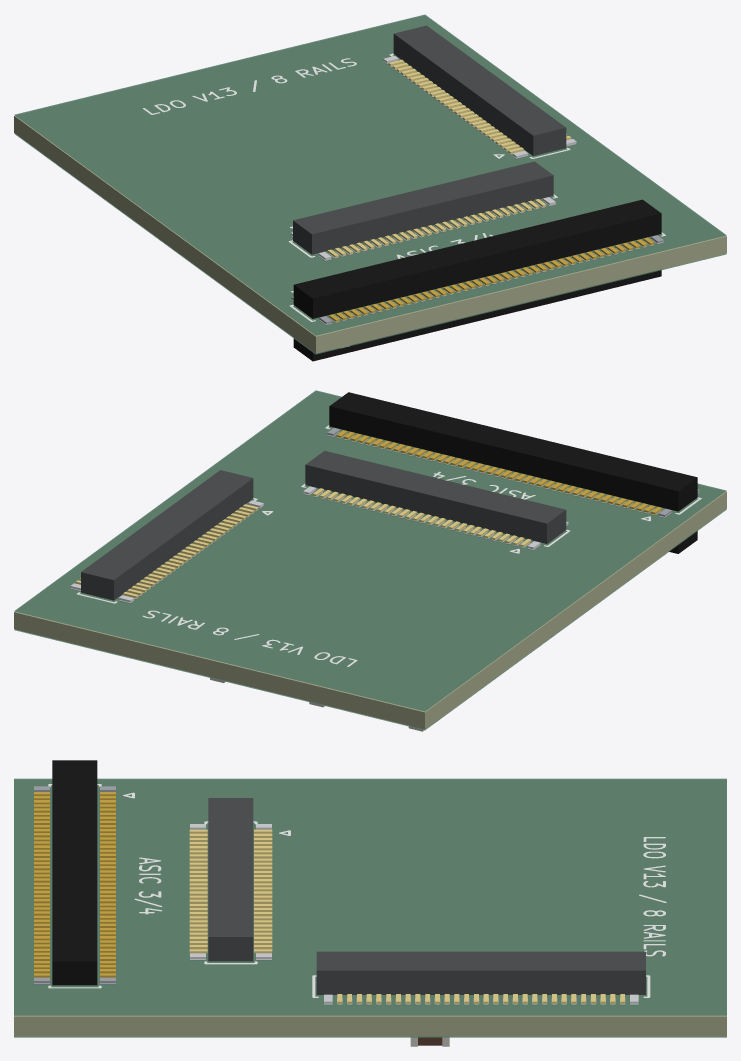
The model's file is ldo-v13-detailed.glb.
3 views of the same model, one above another, from view 1: azimuth 30°, elevation 25°; view 2: azimuth 150°, elevation 25°; view 3: azimuth 270°, elevation 25° (orthographic). The views are drawn at different scales.
Visible parts, largest first — view 1: ASIC_LDO_Dual_60_Direct_V13_PCB, ASIC_LDO_Dual_60_Direct_V13_soldermask (×2), J301, J2, J1, J101, ASIC_LDO_Dual_60_Direct_V13_pad, ASIC_LDO_Dual_60_Direct_V13_silkscreen; view 2: ASIC_LDO_Dual_60_Direct_V13_PCB, ASIC_LDO_Dual_60_Direct_V13_soldermask (×2), J301, J2, J1, ASIC_LDO_Dual_60_Direct_V13_pad, ASIC_LDO_Dual_60_Direct_V13_silkscreen; view 3: ASIC_LDO_Dual_60_Direct_V13_PCB, ASIC_LDO_Dual_60_Direct_V13_soldermask (×2), J301, J1, J2, ASIC_LDO_Dual_60_Direct_V13_silkscreen, ASIC_LDO_Dual_60_Direct_V13_pad.
Boxes of the visible parts, bbox=[...] form: ASIC_LDO_Dual_60_Direct_V13_PCB: bbox=[14, 16, 726, 353]; ASIC_LDO_Dual_60_Direct_V13_soldermask (×2): bbox=[14, 14, 726, 354]; J301: bbox=[291, 199, 663, 324]; J2: bbox=[290, 161, 555, 259]; J1: bbox=[383, 25, 576, 157]; J101: bbox=[293, 270, 661, 361]; ASIC_LDO_Dual_60_Direct_V13_pad: bbox=[291, 61, 663, 325]; ASIC_LDO_Dual_60_Direct_V13_silkscreen: bbox=[143, 53, 665, 321]; ASIC_LDO_Dual_60_Direct_V13_PCB: bbox=[14, 392, 726, 729]; ASIC_LDO_Dual_60_Direct_V13_soldermask (×2): bbox=[14, 390, 726, 730]; J301: bbox=[327, 392, 699, 516]; J2: bbox=[303, 450, 568, 549]; J1: bbox=[70, 470, 263, 602]; ASIC_LDO_Dual_60_Direct_V13_pad: bbox=[71, 432, 699, 603]; ASIC_LDO_Dual_60_Direct_V13_silkscreen: bbox=[77, 425, 701, 666]; ASIC_LDO_Dual_60_Direct_V13_PCB: bbox=[14, 780, 726, 1036]; ASIC_LDO_Dual_60_Direct_V13_soldermask (×2): bbox=[14, 778, 726, 1037]; J301: bbox=[34, 760, 115, 985]; J1: bbox=[316, 951, 645, 1003]; J2: bbox=[189, 798, 272, 961]; ASIC_LDO_Dual_60_Direct_V13_silkscreen: bbox=[48, 784, 666, 997]; ASIC_LDO_Dual_60_Direct_V13_pad: bbox=[34, 959, 638, 1004].
Size of the model in its own units: 0.023 by 0.00347 by 0.0292.
